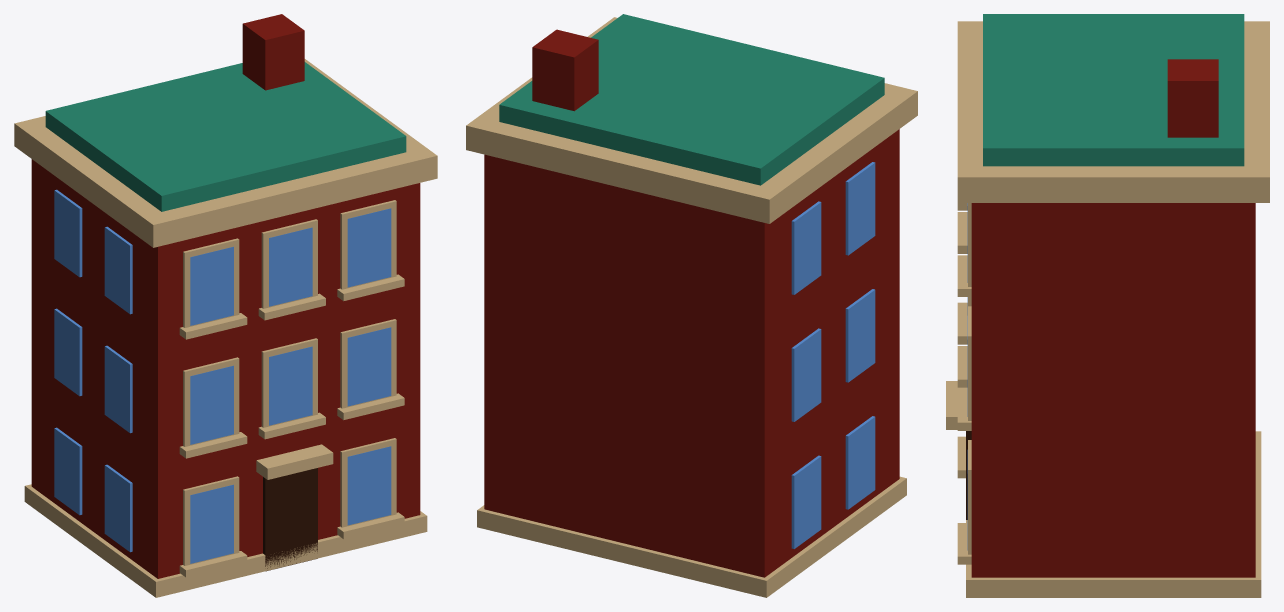
The model's file is brownstone.obj.
The picture shows the model from 3 angles, left to right: view 1: azimuth 30°, elevation 25°; view 2: azimuth 150°, elevation 25°; view 3: azimuth 270°, elevation 25°; orthographic projection. The views are drawn at different scales.
Parts seen in each view (by area): view 1: facade, roof_deck, cornice, base_course, door, chimney, window_02, window_22, window_12, window_21, window_10, window_11 (+25 smaller); view 2: facade, roof_deck, cornice, base_course, chimney, window_side_11, window_side_20, window_side_21, window_side_00, window_side_01, window_side_10; view 3: facade, roof_deck, cornice, base_course, chimney, door_awning, sill_02, sill_12, sill_22, sill_10, sill_11, sill_21 (+2 smaller).
Boxes of the visible parts, x1,y1,x2,y2 form: facade: [31, 159, 420, 578]; roof_deck: [45, 62, 406, 211]; cornice: [14, 59, 437, 247]; base_course: [24, 484, 427, 597]; door: [263, 468, 317, 571]; chimney: [242, 14, 304, 90]; window_02: [347, 446, 391, 525]; window_22: [347, 208, 391, 287]; window_12: [347, 327, 391, 406]; window_21: [269, 227, 312, 306]; window_10: [190, 365, 233, 444]; window_11: [269, 346, 312, 425]; facade: [484, 129, 899, 577]; roof_deck: [499, 14, 884, 185]; cornice: [466, 17, 917, 223]; base_course: [477, 476, 906, 597]; chimney: [532, 29, 598, 111]; window_side_11: [845, 289, 875, 382]; window_side_20: [791, 201, 821, 294]; window_side_21: [845, 162, 875, 255]; window_side_00: [791, 455, 821, 548]; window_side_01: [845, 416, 875, 509]; window_side_10: [791, 328, 821, 421]; facade: [971, 203, 1255, 577]; roof_deck: [983, 14, 1244, 166]; cornice: [957, 21, 1269, 202]; base_course: [966, 431, 1261, 597]; chimney: [1167, 59, 1218, 137]; door_awning: [946, 381, 967, 429]; sill_02: [957, 523, 971, 564]; sill_12: [957, 389, 971, 430]; sill_22: [957, 255, 971, 296]; sill_10: [957, 302, 967, 344]; sill_11: [957, 346, 967, 387]; sill_21: [957, 212, 967, 253].
Bounding box in the file's own units: 6.5 × 9.7 × 5.7.
